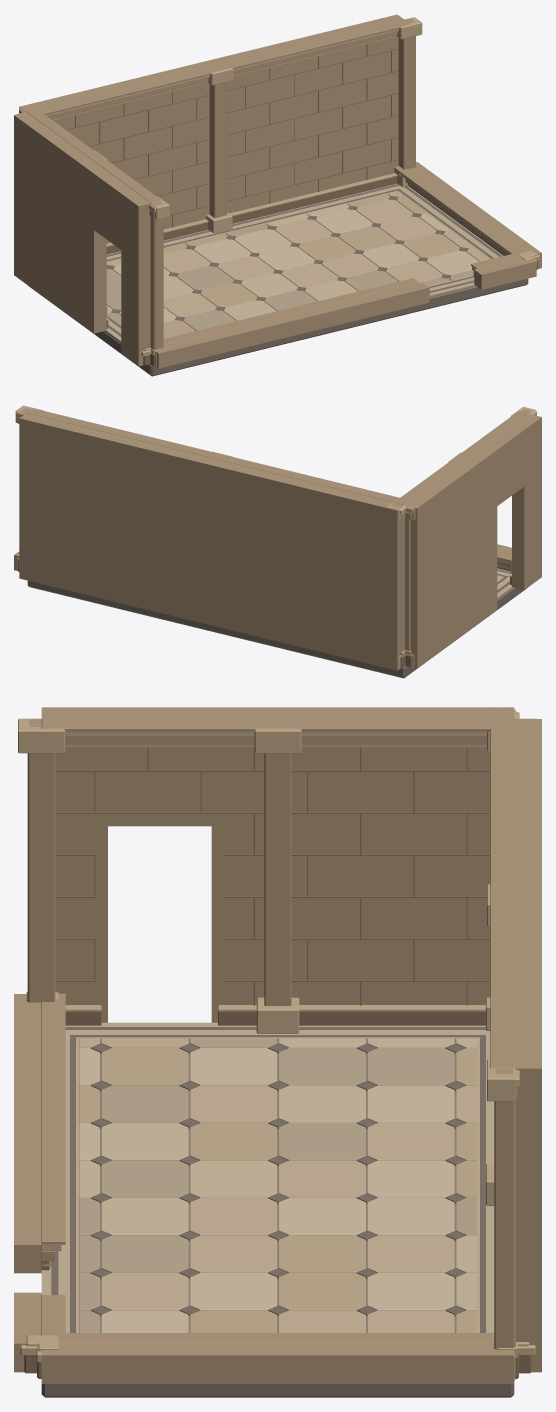
Rendered from b2_valve_gallery_architecture.glb.
The picture shows the model from 3 angles, top to bottom: view 1: azimuth 30°, elevation 25°; view 2: azimuth 150°, elevation 25°; view 3: azimuth 270°, elevation 25°; orthographic projection. The views are drawn at different scales.
Parts seen in each view (by area): view 1: b2_valve_gallery_rear_Wall_Solid_00, b2_valve_gallery_Floor, b2_valve_gallery_left_Wall_Solid_00, b2_valve_gallery_front_Cutedge_Solid_00, b2_valve_gallery_rear_Masonry_Real_joint_mesh, b2_valve_gallery_Floor_Foundation, b2_valve_gallery_rear_Wall_Cornice_00_3_0, Pier_001, Pier_002, b2_valve_gallery_front_Cutedge_Cornice_00_3_1, b2_valve_gallery_rear_Wall_Skirting_00_0, b2_valve_gallery_right_Cutedge_Solid_00 (+9 smaller); view 2: b2_valve_gallery_rear_Wall_Solid_00, b2_valve_gallery_left_Wall_Solid_00, b2_valve_gallery_Floor_Foundation, b2_valve_gallery_rear_Wall_Cornice_00_3_0, b2_valve_gallery_left_Wall_Cornice_00_3_0, Pilaster_Shaft, Pilaster_Shaft_003, b2_valve_gallery_Floor; view 3: b2_valve_gallery_Floor, b2_valve_gallery_left_Wall_Solid_00, b2_valve_gallery_right_Cutedge_Solid_00, b2_valve_gallery_rear_Wall_Solid_00, b2_valve_gallery_front_Cutedge_Solid_00, b2_valve_gallery_rear_Wall_Cornice_00_3_0, Pier_003, Pier_004, b2_valve_gallery_Floor_Foundation, b2_valve_gallery_left_Wall_Cornice_00_3_0, b2_valve_gallery_front_Cutedge_Cornice_00_3_1, b2_valve_gallery_left_Masonry_Real_joint_mesh (+14 smaller).
Part boxes in pixels (x1,y1,x2,y2): b2_valve_gallery_rear_Wall_Solid_00: [19, 14, 403, 243]; b2_valve_gallery_Floor: [105, 183, 503, 342]; b2_valve_gallery_left_Wall_Solid_00: [14, 112, 150, 366]; b2_valve_gallery_front_Cutedge_Solid_00: [155, 258, 536, 368]; b2_valve_gallery_rear_Masonry_Real_joint_mesh: [66, 44, 398, 227]; b2_valve_gallery_Floor_Foundation: [29, 278, 528, 376]; b2_valve_gallery_rear_Wall_Cornice_00_3_0: [29, 19, 410, 114]; Pier_001: [209, 82, 226, 217]; Pier_002: [398, 18, 415, 169]; b2_valve_gallery_front_Cutedge_Cornice_00_3_1: [163, 278, 418, 345]; b2_valve_gallery_rear_Wall_Skirting_00_0: [106, 176, 396, 254]; b2_valve_gallery_right_Cutedge_Solid_00: [410, 162, 541, 268]; b2_valve_gallery_rear_Wall_Solid_00: [19, 413, 402, 670]; b2_valve_gallery_left_Wall_Solid_00: [405, 414, 541, 668]; b2_valve_gallery_Floor_Foundation: [27, 580, 526, 678]; b2_valve_gallery_rear_Wall_Cornice_00_3_0: [27, 408, 408, 504]; b2_valve_gallery_left_Wall_Cornice_00_3_0: [394, 411, 528, 505]; Pilaster_Shaft: [405, 518, 409, 650]; Pilaster_Shaft_003: [401, 519, 404, 651]; b2_valve_gallery_Floor: [497, 568, 512, 598]; b2_valve_gallery_Floor: [41, 1022, 494, 1332]; b2_valve_gallery_left_Wall_Solid_00: [41, 707, 514, 1022]; b2_valve_gallery_right_Cutedge_Solid_00: [41, 1343, 514, 1383]; b2_valve_gallery_rear_Wall_Solid_00: [514, 719, 541, 1372]; b2_valve_gallery_front_Cutedge_Solid_00: [14, 994, 41, 1372]; b2_valve_gallery_rear_Wall_Cornice_00_3_0: [490, 718, 514, 1068]; Pier_003: [27, 719, 55, 1002]; Pier_004: [264, 753, 291, 1005]; b2_valve_gallery_Floor_Foundation: [41, 1384, 514, 1397]; b2_valve_gallery_left_Wall_Cornice_00_3_0: [41, 718, 513, 731]; b2_valve_gallery_front_Cutedge_Cornice_00_3_1: [41, 993, 65, 1244]; b2_valve_gallery_left_Masonry_Real_joint_mesh: [55, 747, 490, 1005].
Bounding box in the file's own units: 8.96 × 3.71 × 5.36.
